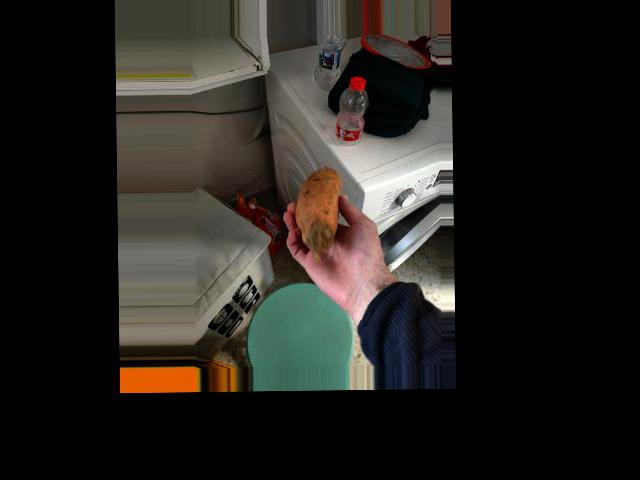sweet_potato: (300, 160, 346, 265)
